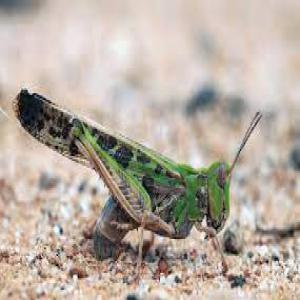locust: (19, 62, 256, 250)
